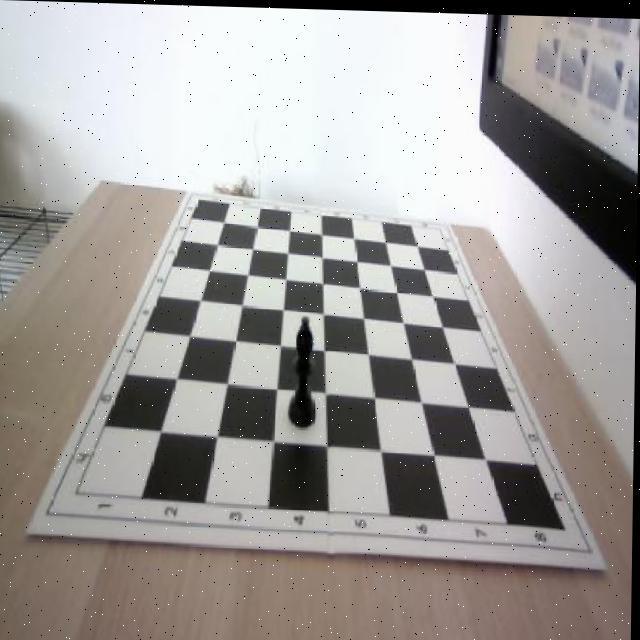bishop: (287, 312, 319, 427)
